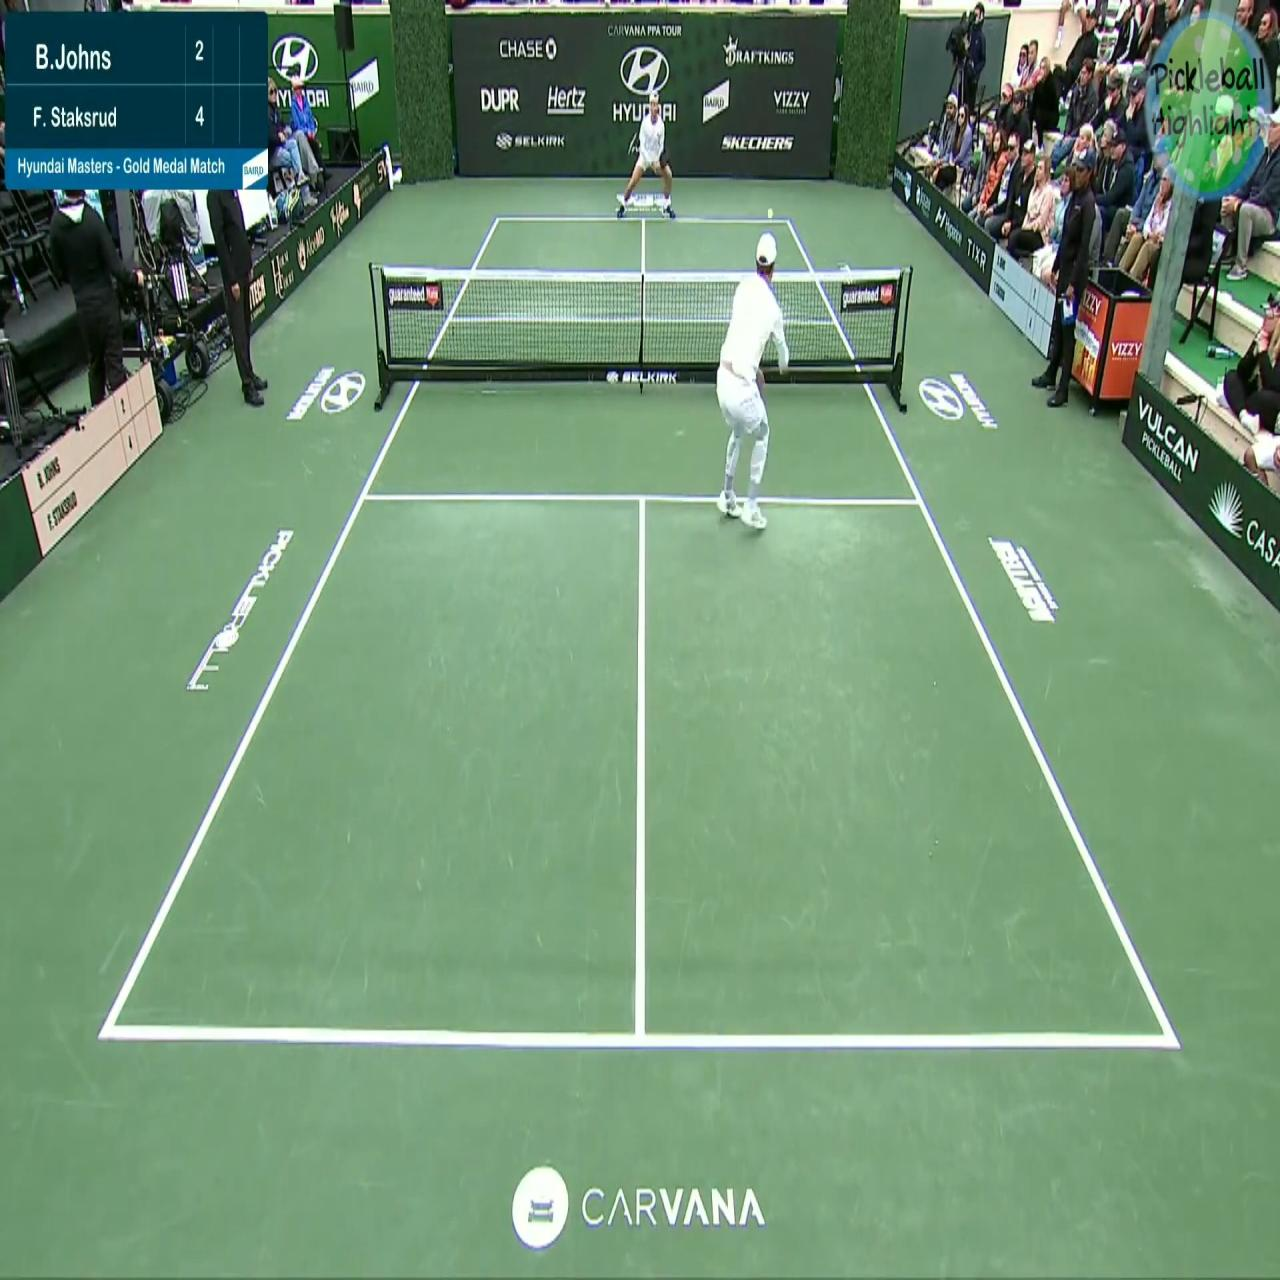pickleball: (767, 207, 774, 219)
